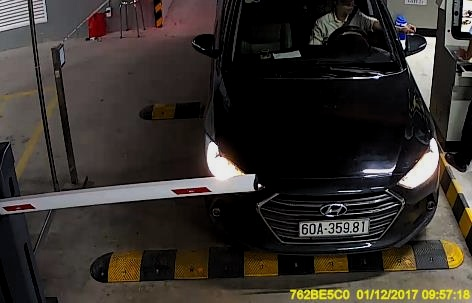plate: (299, 216, 368, 236)
